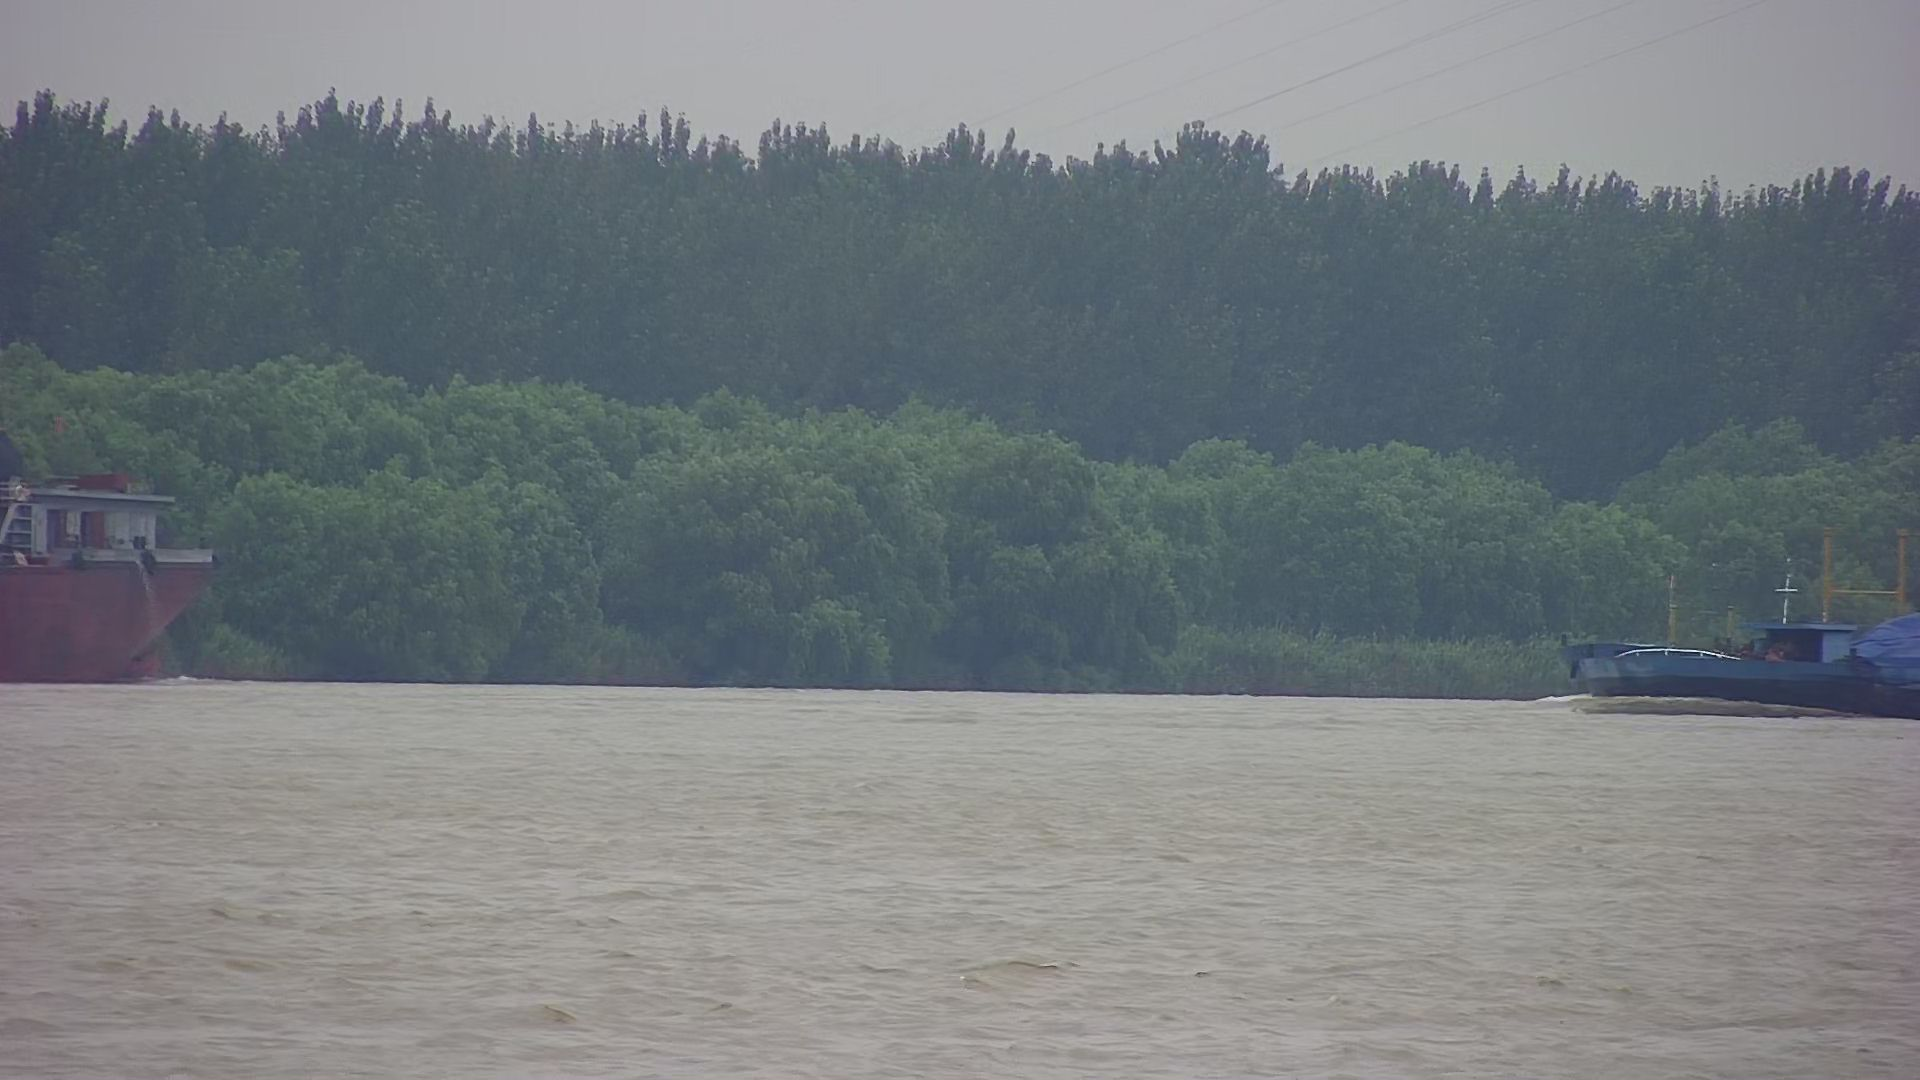ship: (1531, 512, 1920, 732), (1, 410, 248, 686)
